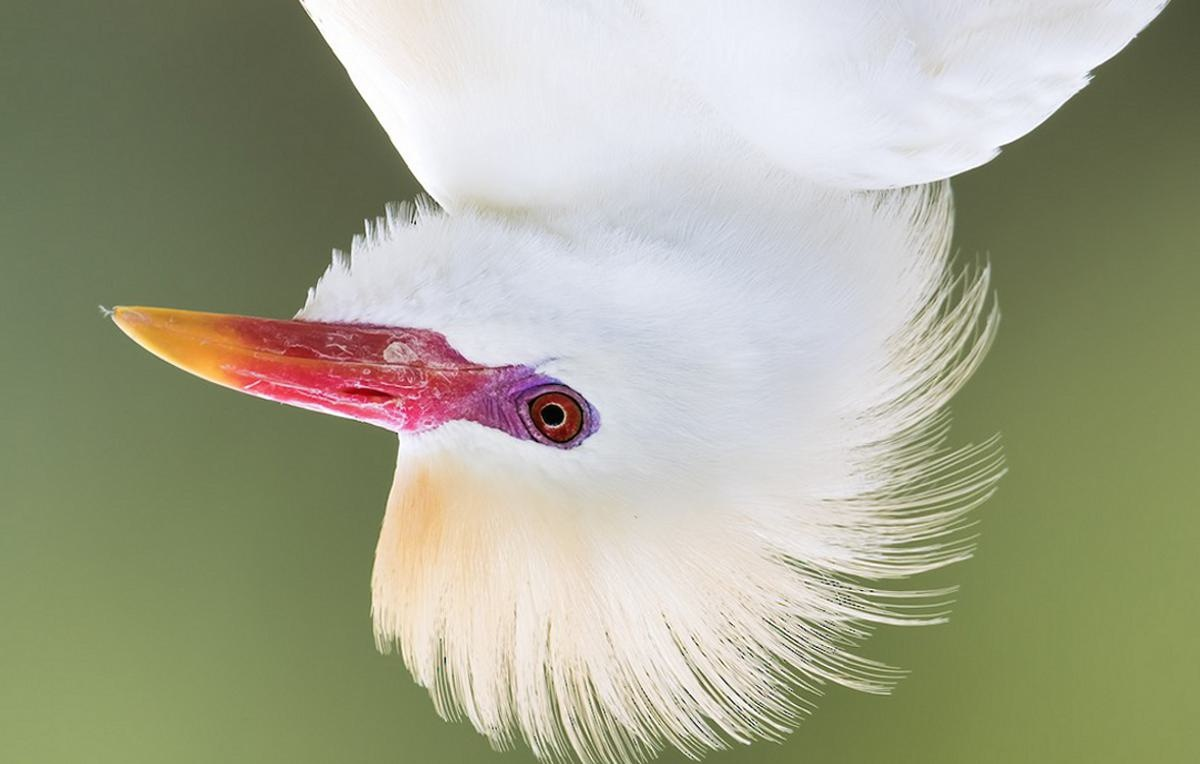egret: (78, 1, 1182, 749)
